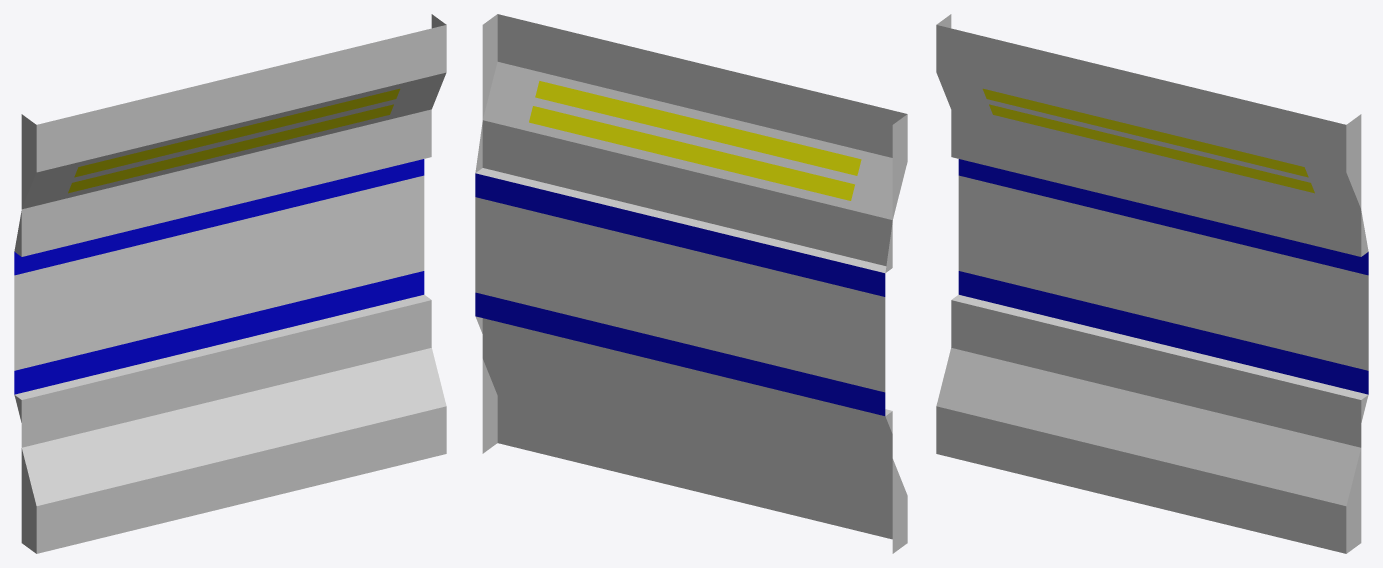
The model's file is Wall001Light.fbx.
3 views of the same model, side by side, from view 1: azimuth 30°, elevation 25°; view 2: azimuth 150°, elevation 25°; view 3: azimuth 330°, elevation 25° (orthographic).
Parts seen in each view (by area): view 1: Wall001Light; view 2: Wall001Light; view 3: Wall001Light.
Part boxes in pixels (x1=…): Wall001Light: x1=14, y1=14, x2=446, y2=553; Wall001Light: x1=475, y1=14, x2=907, y2=553; Wall001Light: x1=936, y1=14, x2=1368, y2=553.
Size of the model in its own units: 2 by 2 by 0.1875.
